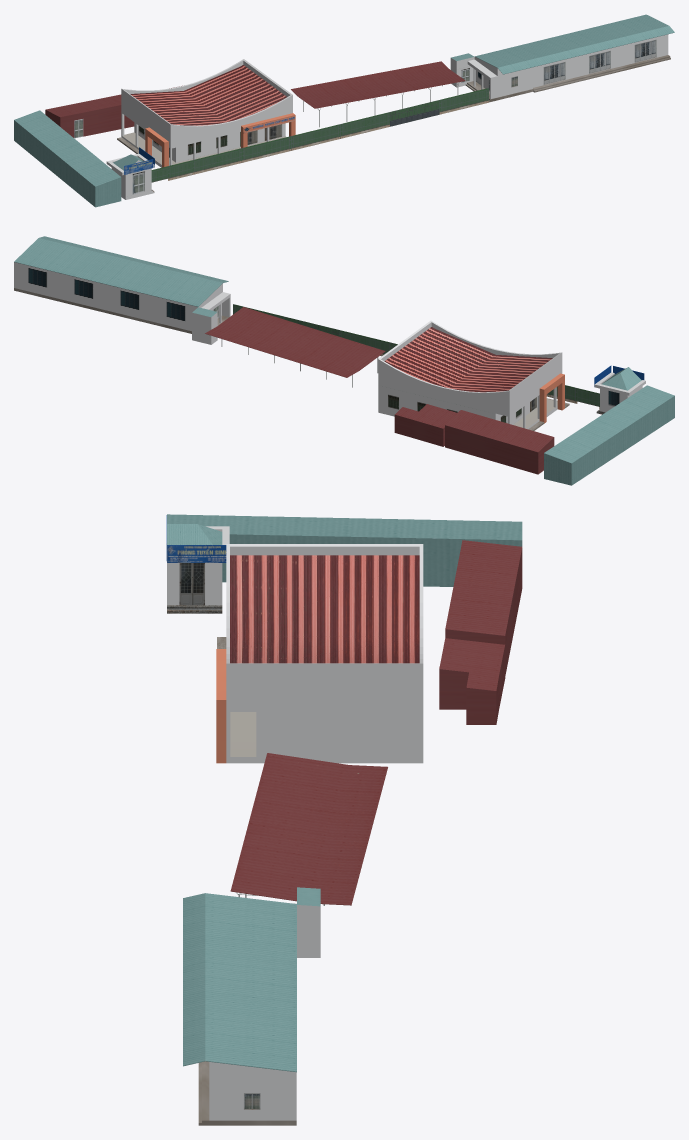
The model's file is Trường trung cấp Miền Nam.glb.
The picture shows the model from 3 angles, top to bottom: view 1: azimuth 30°, elevation 25°; view 2: azimuth 150°, elevation 25°; view 3: azimuth 270°, elevation 25°; orthographic projection. The views are drawn at different scales.
Visible parts, largest first — view 1: BPH071.003, BPH071.005, BPH071, BPH071.001, BPH071.004, BPH071.002; view 2: BPH071.003, BPH071.005, BPH071.001, BPH071.002, BPH071.004, BPH071; view 3: BPH071.003, BPH071.005, BPH071.004, BPH071.002, BPH071.001, BPH071.
Part boxes in pixels (x1,y1,x2,y2): BPH071.003: [117, 59, 295, 167]; BPH071.005: [450, 14, 674, 102]; BPH071: [106, 88, 488, 199]; BPH071.001: [14, 110, 121, 207]; BPH071.004: [291, 61, 465, 127]; BPH071.002: [45, 85, 182, 138]; BPH071.003: [378, 320, 569, 430]; BPH071.005: [14, 236, 230, 344]; BPH071.001: [544, 385, 674, 485]; BPH071.002: [394, 404, 554, 474]; BPH071.004: [205, 307, 385, 387]; BPH071: [233, 304, 645, 414]; BPH071.003: [216, 544, 423, 763]; BPH071.005: [183, 887, 320, 1125]; BPH071.004: [230, 753, 387, 905]; BPH071.002: [439, 540, 522, 724]; BPH071.001: [167, 514, 522, 586]; BPH071: [166, 515, 229, 613].
Size of the model in its own units: 101 by 8.32 by 26.77.
1 material, 1 textured.
